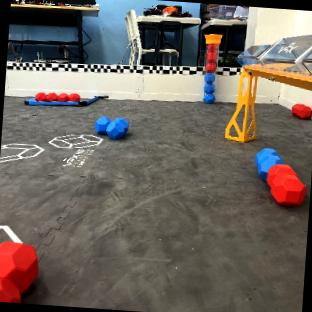V5_BLUE: (95, 117, 128, 138), (203, 72, 214, 103)
V5_RED: (0, 241, 38, 301), (267, 164, 305, 206), (203, 33, 221, 103), (35, 91, 80, 101), (205, 40, 216, 71), (292, 103, 311, 118)
